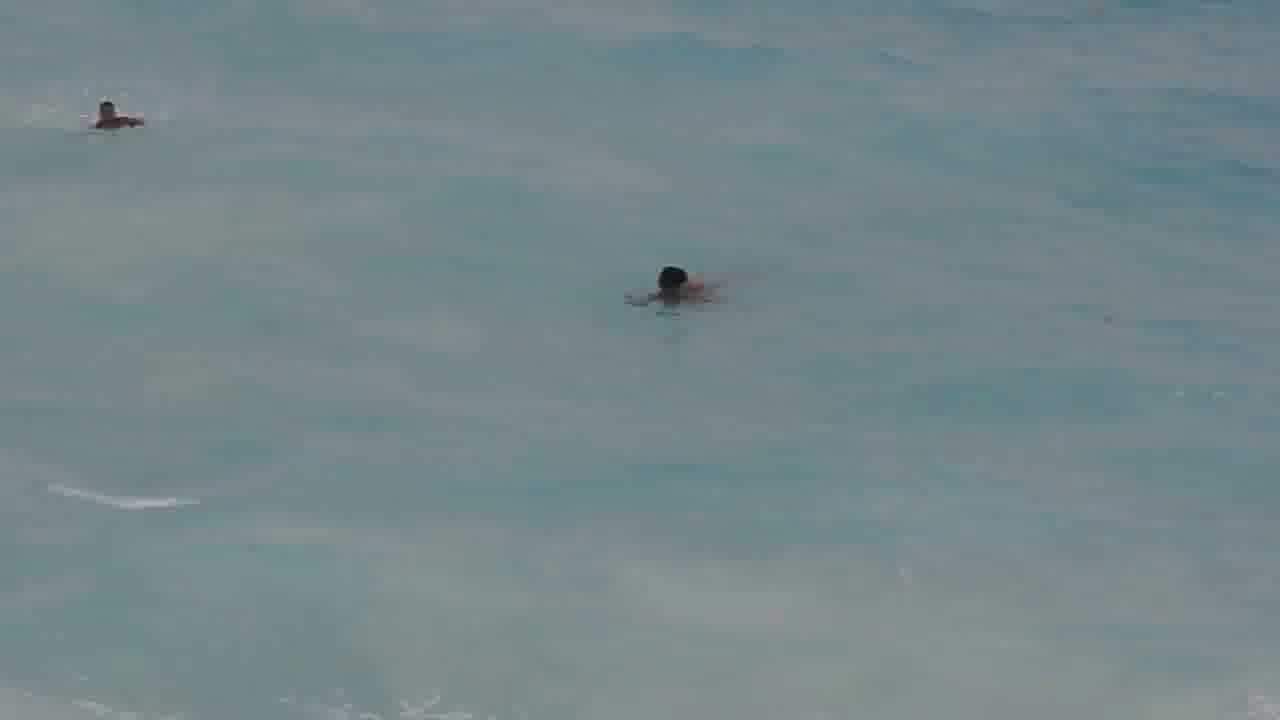swimmer: (648, 254, 708, 306), (84, 91, 136, 129)
